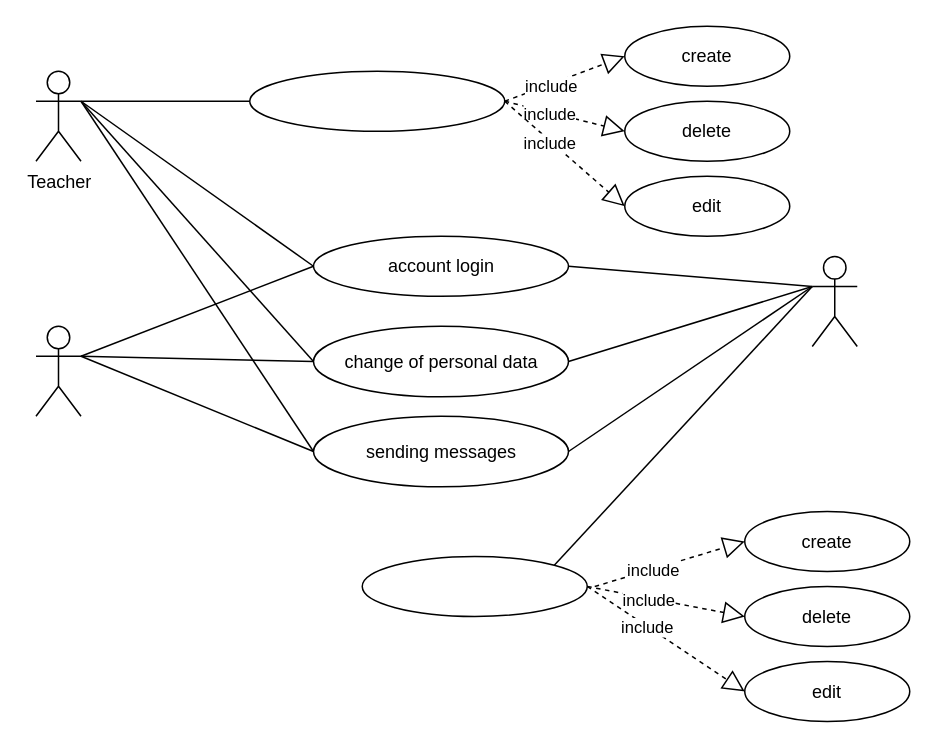
This 936x749 diagram has some shape labels left out. The shapes that lost their labels are listed below. From the top down, each one's centre as x and y in pixels, then its label:
At point 376,100: "set up chats".
At point 834,300: "Admin".
At point 57,370: "Student".
At point 474,585: "setting up accounts".
